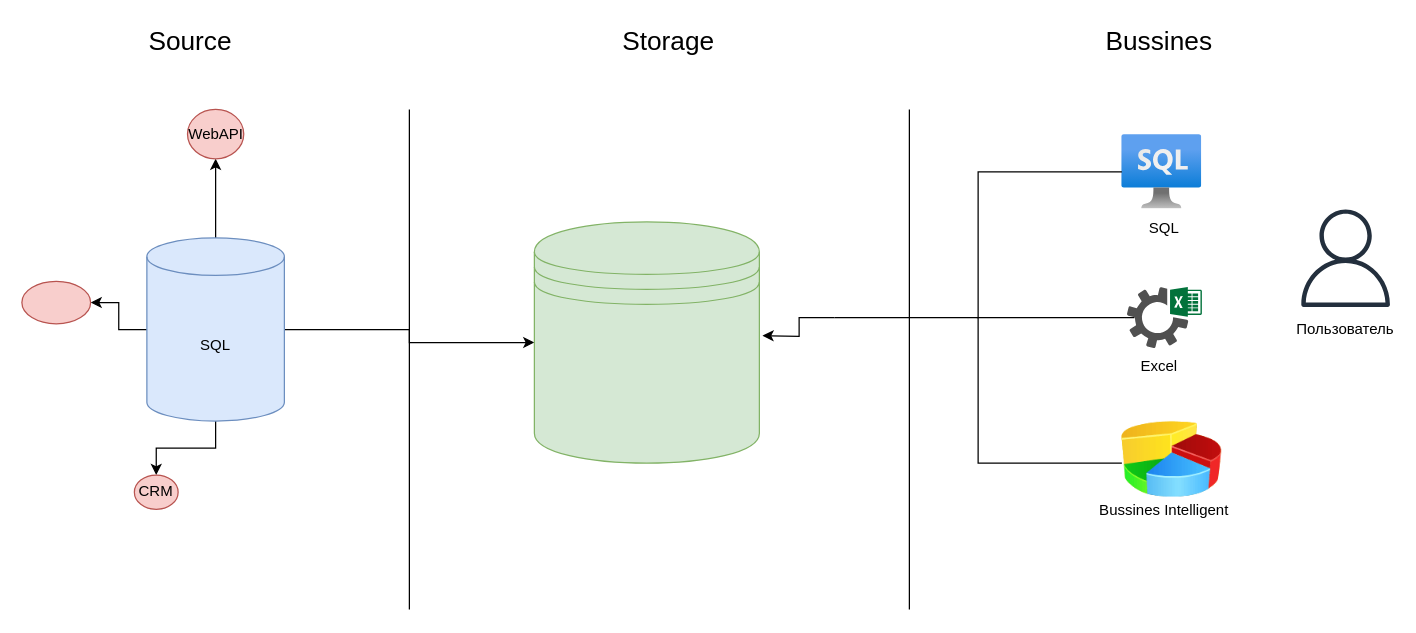
Some shapes in this 1416 by 633 pixel diagram are drawn without their labels. The box of each missing label's shape, as (x1, y1, x2, y2) in pixels:
Staging layer Business layer: (533, 221, 759, 463)
Website: (21, 280, 91, 324)
